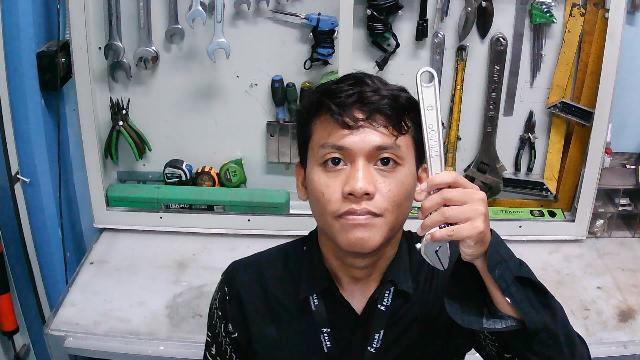kunci_inggris: (410, 66, 457, 271)
